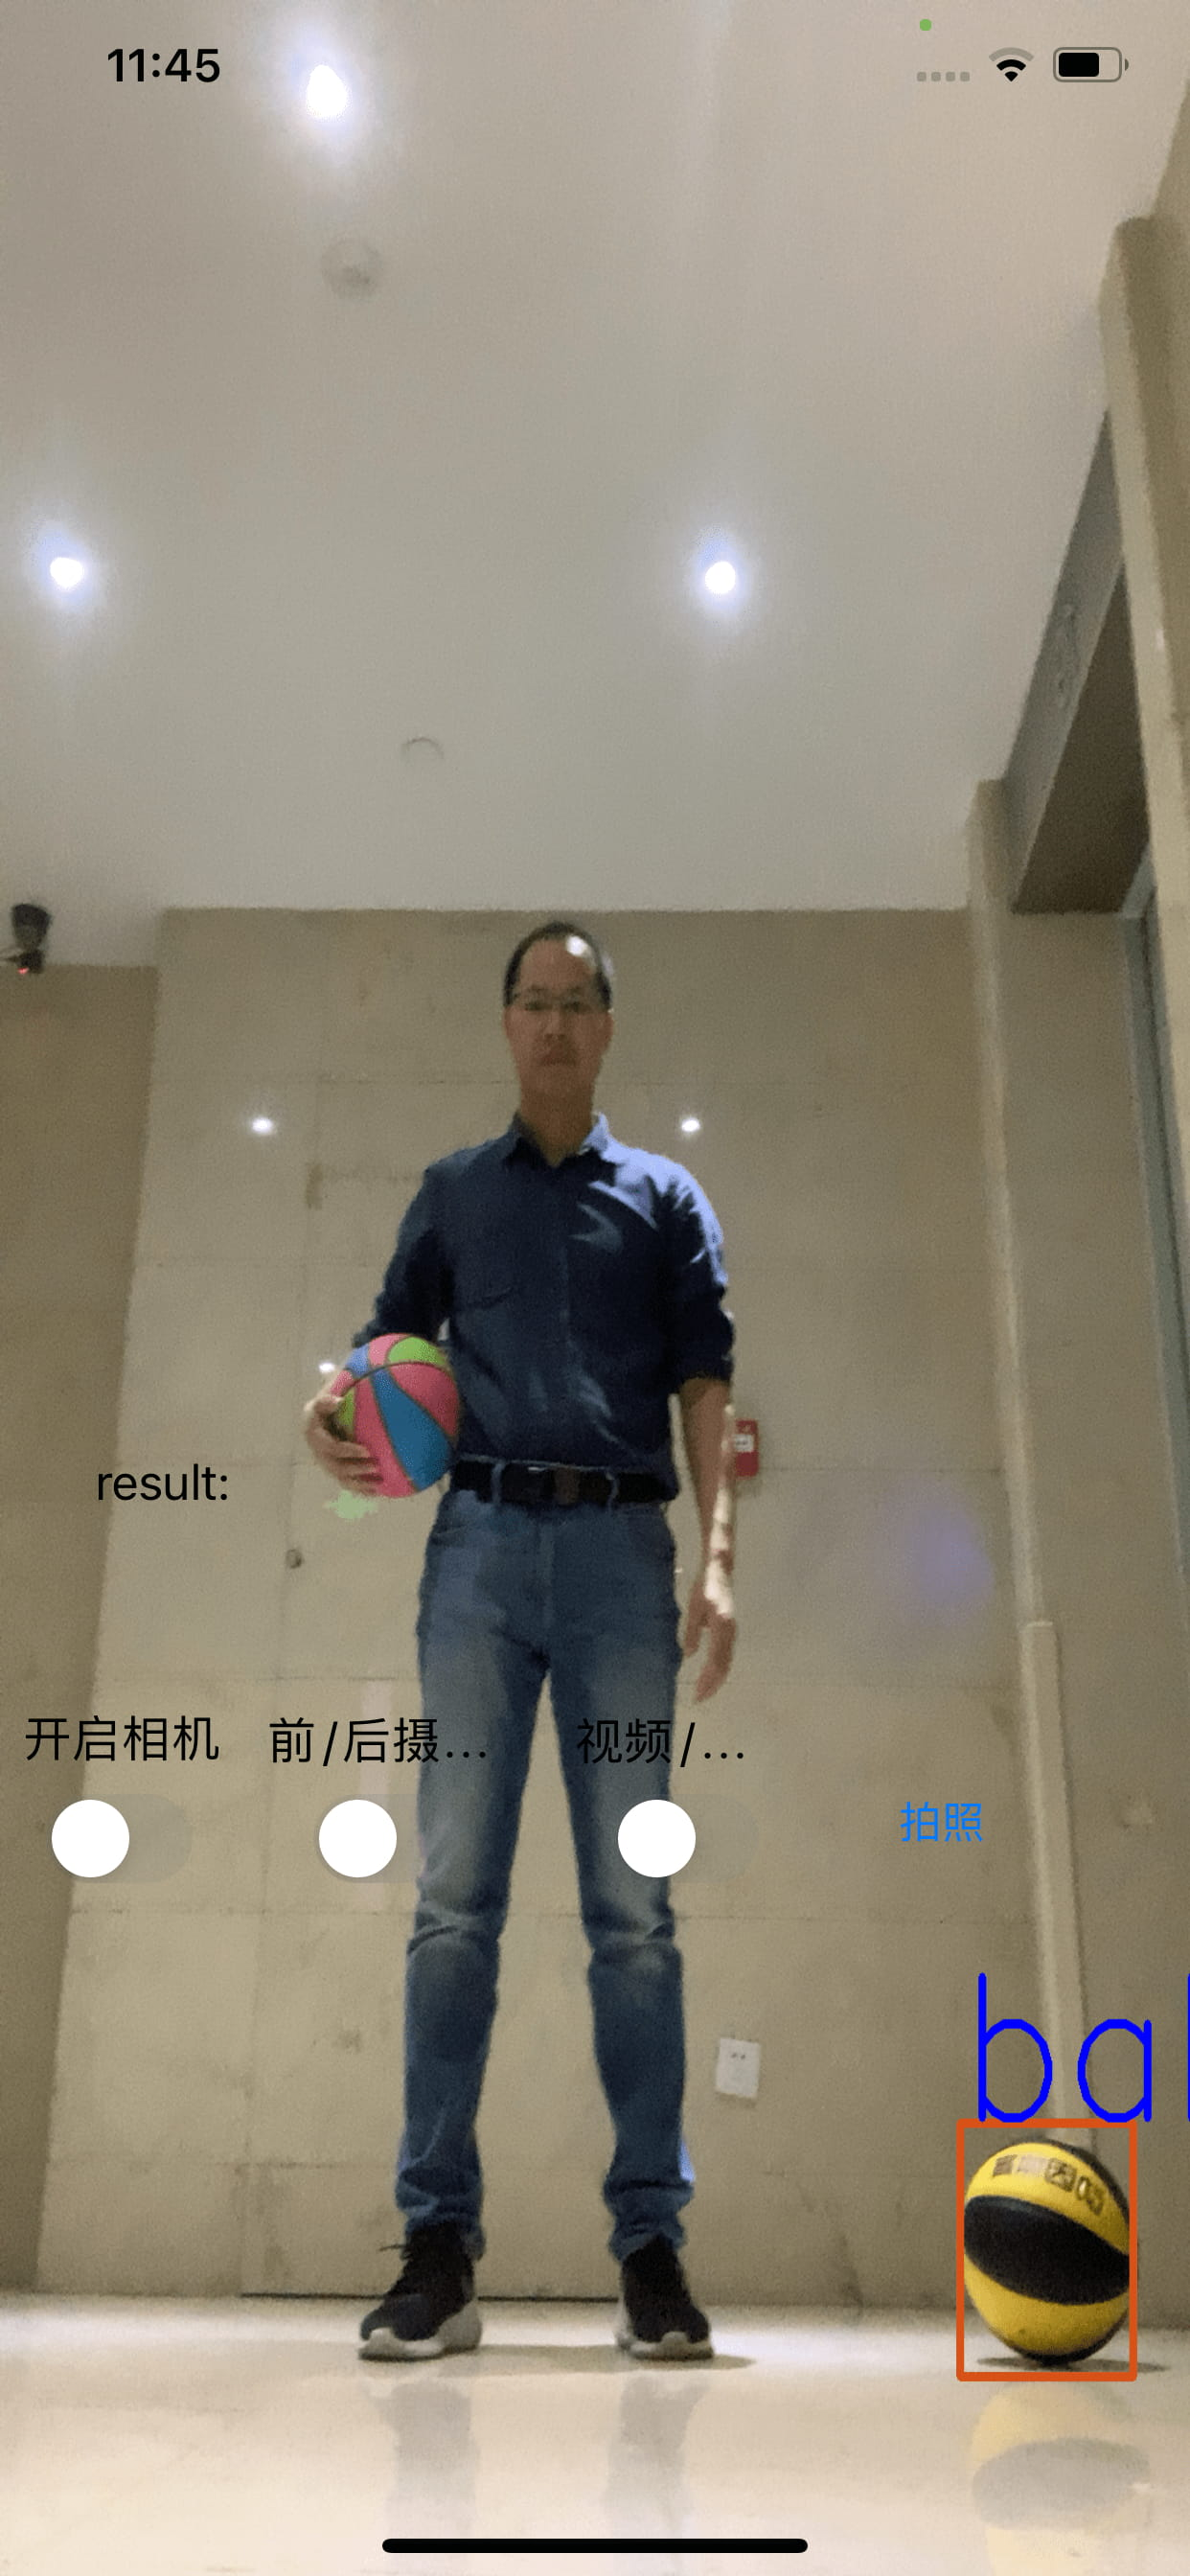ball: (960, 2136, 1131, 2362), (327, 1331, 475, 1502)
